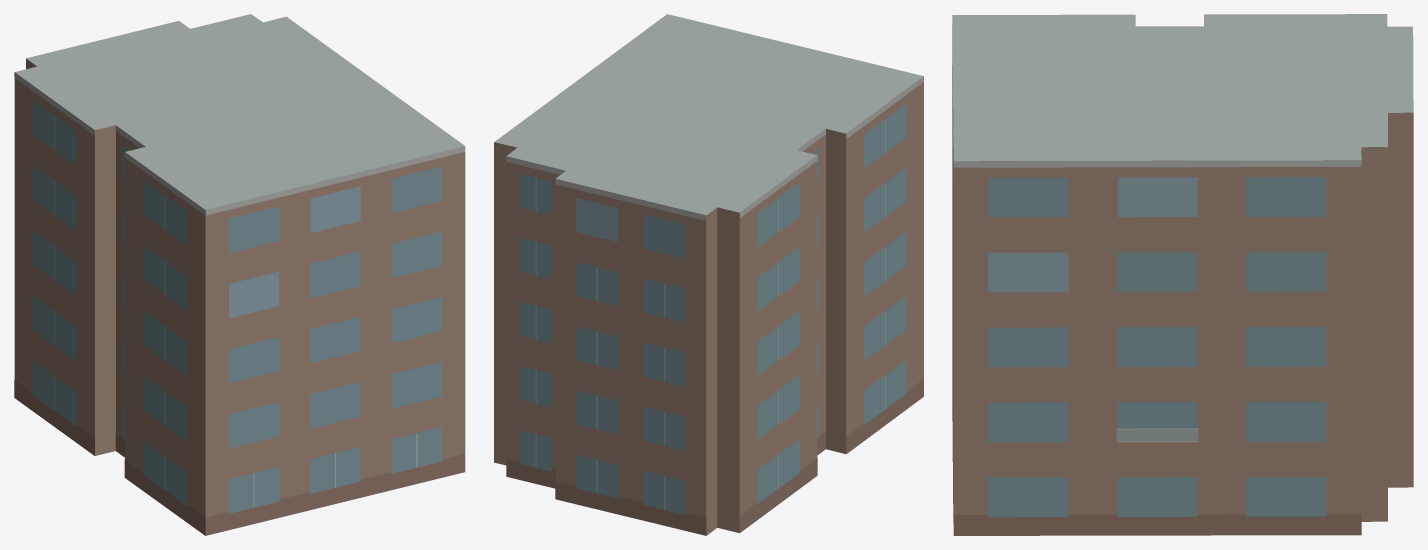
Rendered from survey-upis-32606387.glb.
The picture shows the model from 3 angles, left to right: view 1: azimuth 30°, elevation 25°; view 2: azimuth 150°, elevation 25°; view 3: azimuth 270°, elevation 25°; orthographic projection. The views are drawn at different scales.
Visible parts, largest first — view 1: survey-upis-32606387.tmp; view 2: survey-upis-32606387.tmp; view 3: survey-upis-32606387.tmp.
Boxes of the visible parts, x1,y1,x2,y2 form: survey-upis-32606387.tmp: (14, 14, 465, 535); survey-upis-32606387.tmp: (494, 14, 923, 535); survey-upis-32606387.tmp: (952, 14, 1413, 535).
Bounding box in the file's own units: 11.81 × 14 × 15.63.
